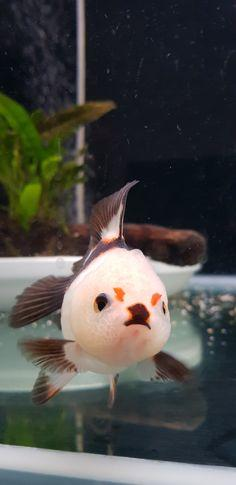goldfish: (20, 223, 211, 409)
